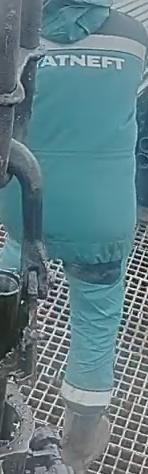vest: (19, 0, 146, 267)
